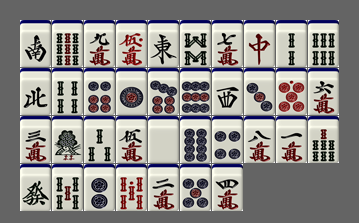0m: (116, 20, 147, 67)
0p: (276, 68, 307, 115)
0s: (116, 164, 147, 211)
1m: (276, 116, 307, 163)
1p: (116, 68, 147, 115)
1s: (52, 116, 83, 163)
1z: (148, 20, 179, 67)
2m: (148, 164, 179, 211)
2p: (84, 164, 115, 211)
2s: (276, 20, 307, 67)
2z: (20, 20, 51, 67)
3m: (20, 116, 51, 163)
3p: (244, 68, 275, 115)
3s: (84, 116, 115, 163)
3z: (212, 68, 243, 115)
4m: (212, 164, 243, 211)
4p: (212, 116, 243, 163)
4s: (52, 68, 83, 115)
4z: (20, 68, 51, 115)
5m: (116, 116, 147, 163)
5p: (180, 164, 211, 211)
5s: (52, 164, 83, 211)
5z: (148, 116, 179, 163)
6m: (308, 68, 339, 115)
6p: (84, 68, 115, 115)
6s: (308, 20, 339, 67)
6z: (20, 164, 51, 211)
7m: (212, 20, 243, 67)
7p: (148, 68, 179, 115)
7s: (308, 116, 339, 163)
7z: (244, 20, 275, 67)
8m: (244, 116, 275, 163)
8p: (180, 116, 211, 163)
8s: (180, 20, 211, 67)
9m: (84, 20, 115, 67)
9p: (180, 68, 211, 115)
9s: (52, 20, 83, 67)
